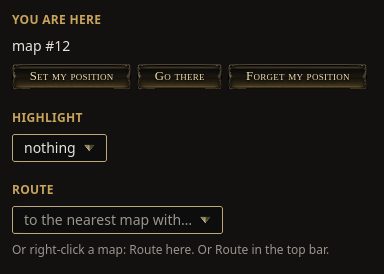
RouteTab › forgets your position (an I'm here by mistake)
Click the button "Forget my position": (298, 77) [228,64,367,90]
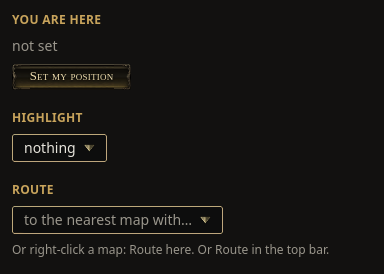
Now the text "not set" is shown, box [12,36,58,55]
